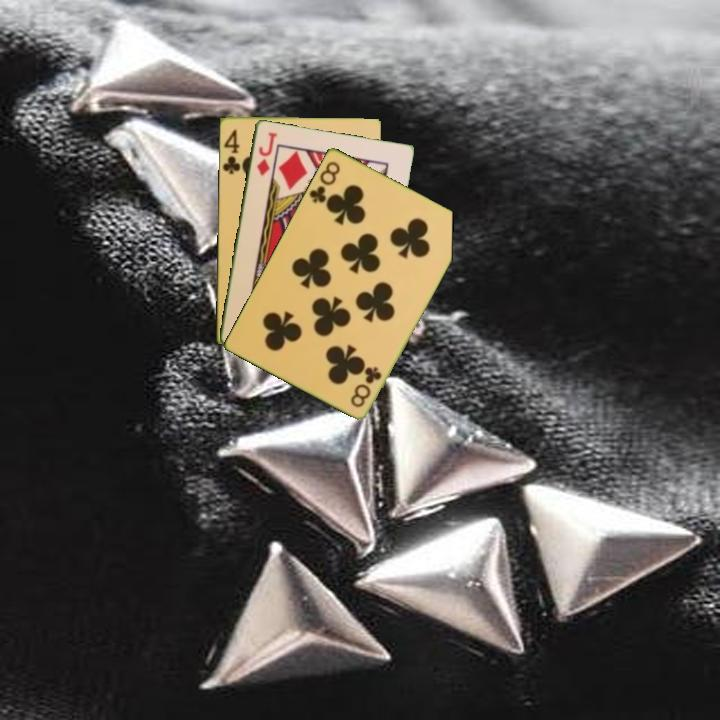4c: (220, 125, 245, 176)
8c: (305, 157, 343, 206), (347, 362, 384, 410)
Jd: (253, 128, 279, 178)
